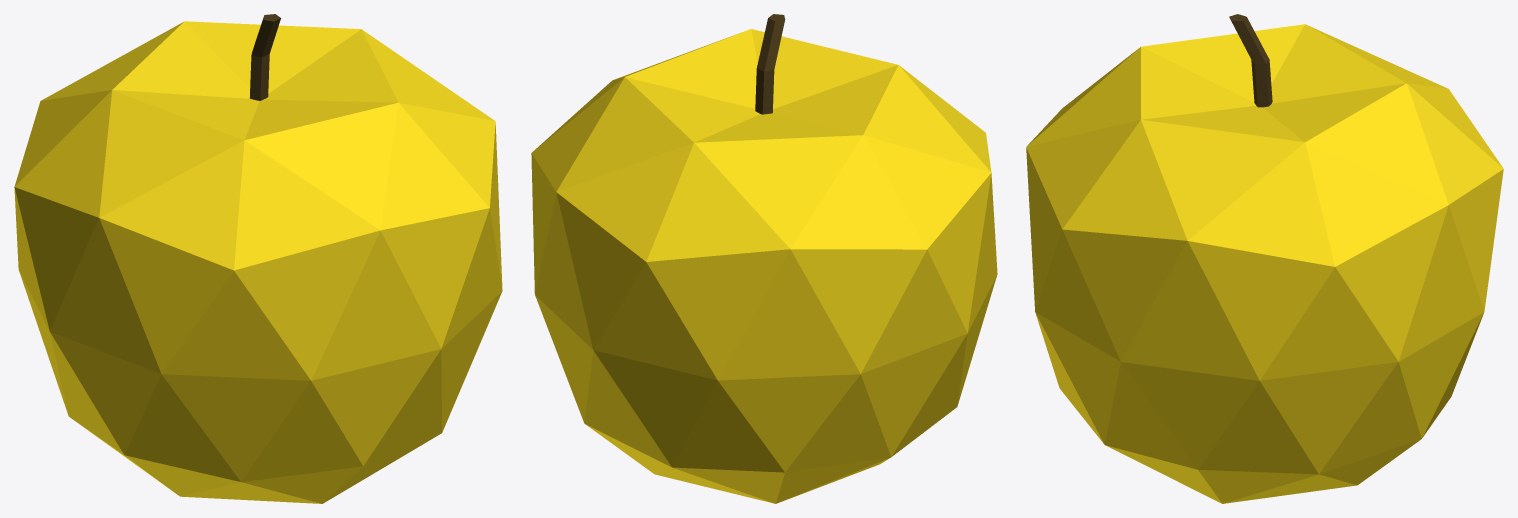
File: Apple.fbx
The picture shows the model from 3 angles, left to right: view 1: azimuth 30°, elevation 25°; view 2: azimuth 150°, elevation 25°; view 3: azimuth 270°, elevation 25°; orthographic projection. The views are drawn at different scales.
Visible parts, largest first — view 1: Apple; view 2: Apple; view 3: Apple.
Part boxes in pixels (bbox=[...]): Apple: bbox=[14, 14, 502, 503]; Apple: bbox=[531, 14, 997, 503]; Apple: bbox=[1026, 14, 1503, 503].
Bounding box in the file's own units: 198 × 201 × 200.
